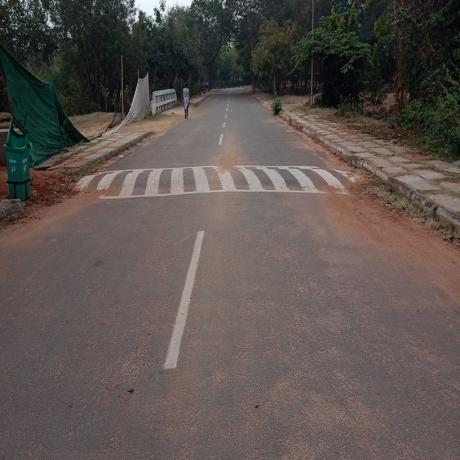Speed Bump: (73, 166, 366, 197)
